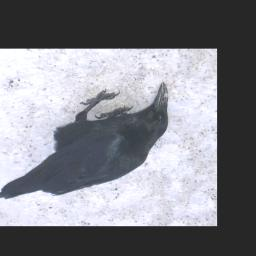Crow: (0, 82, 168, 199)
